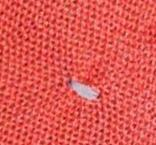hole: (68, 77, 102, 103)
